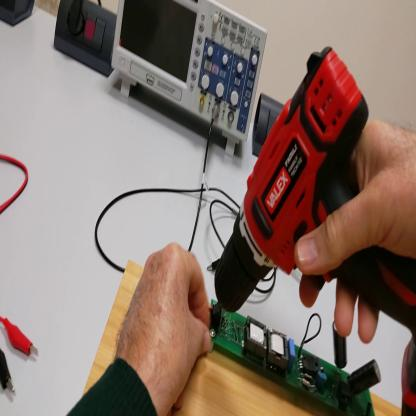electric screwdriver: (214, 45, 416, 416)
hand: (294, 115, 416, 353), (113, 242, 213, 414)
high voltage board: (208, 301, 381, 416)
oscilloscope: (113, 4, 269, 157)
socket: (54, 2, 119, 78), (2, 2, 36, 29)
working area: (84, 262, 402, 416)
